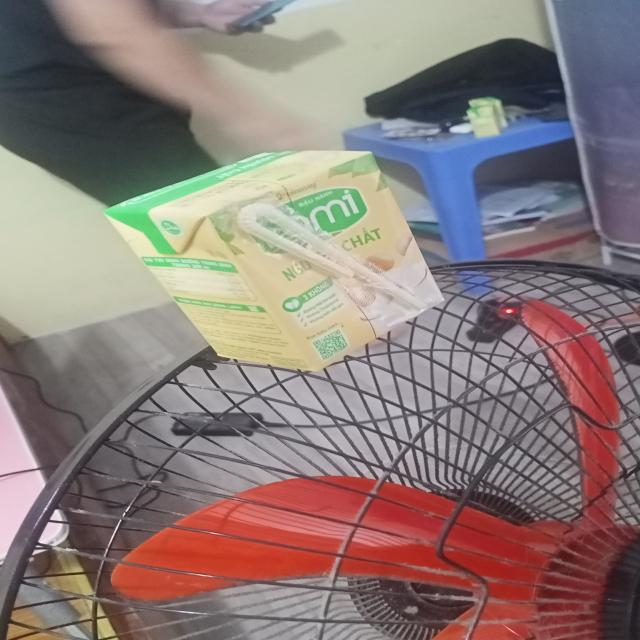Fami: (102, 152, 448, 374)
